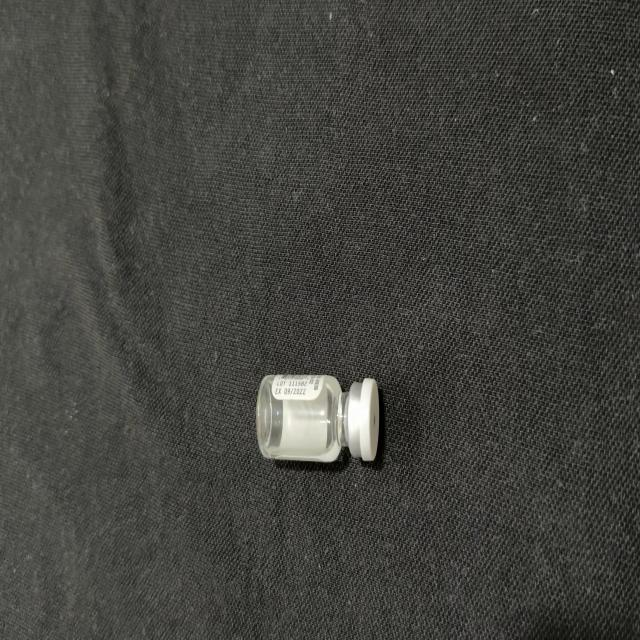fentanl_citrat: (258, 376, 379, 463)
